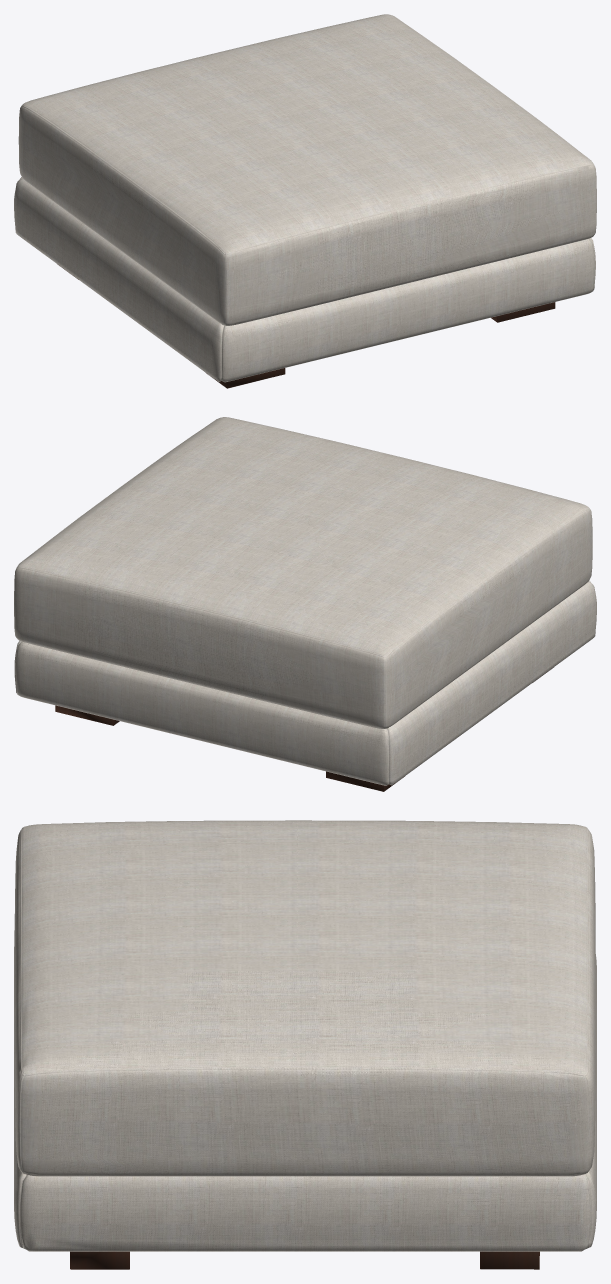
The model's file is sofa-chaise.glb.
3 views of the same model, one above another, from view 1: azimuth 30°, elevation 25°; view 2: azimuth 150°, elevation 25°; view 3: azimuth 270°, elevation 25° (orthographic). The views are drawn at different scales.
Visible parts, largest first — view 1: Chaise; view 2: Chaise; view 3: Chaise.
Boxes of the visible parts, left/top/right/bottom form: Chaise: left=14, top=14, right=596, bottom=388; Chaise: left=14, top=417, right=596, bottom=791; Chaise: left=14, top=820, right=596, bottom=1269.
Size of the model in its own units: 1.06 by 0.451 by 1.01.
2 materials, 2 textured.
